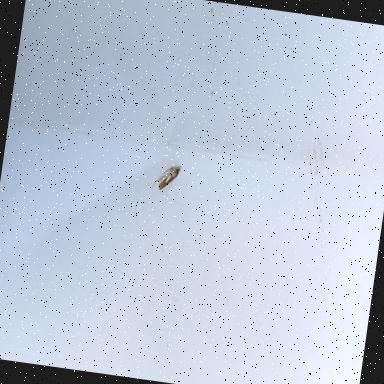pbw: (151, 163, 180, 192)
